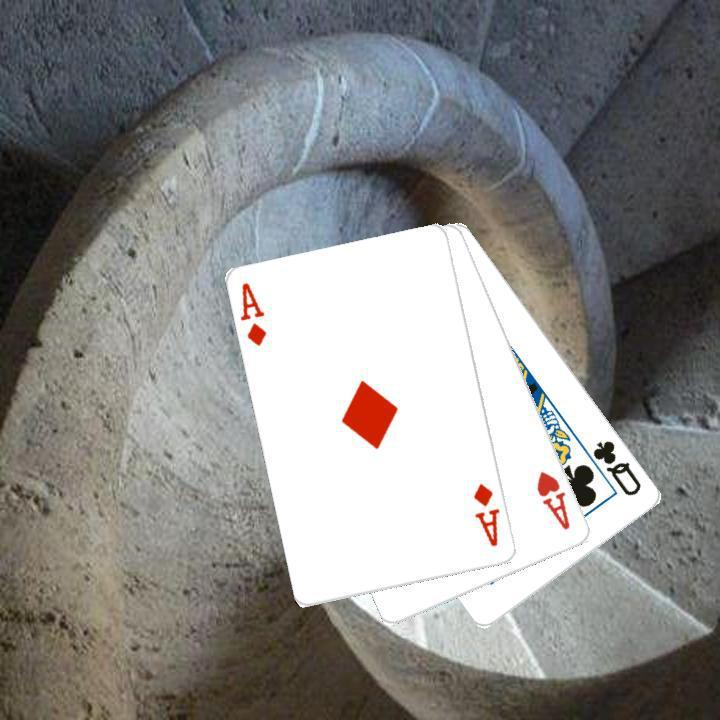A: (532, 467, 573, 532), (470, 479, 502, 549), (237, 279, 269, 348)
Q: (588, 436, 644, 499)
